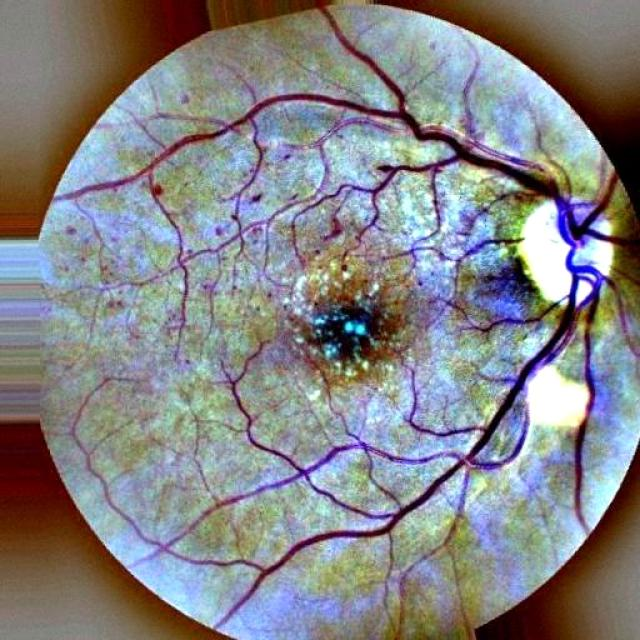Macula: (294, 272, 395, 374)
Nerves: (80, 235, 588, 623), (109, 21, 577, 272), (215, 335, 377, 516), (435, 230, 569, 338)
Optic Disk: (510, 190, 617, 313)
